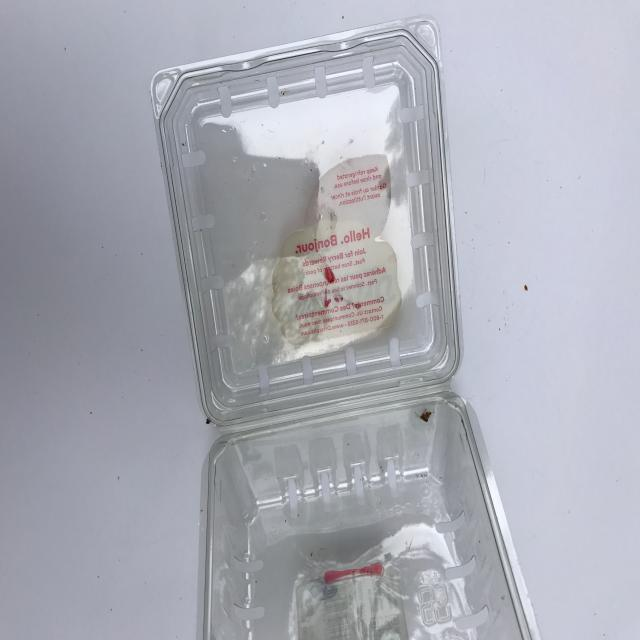plastic: (0, 0, 574, 640)
